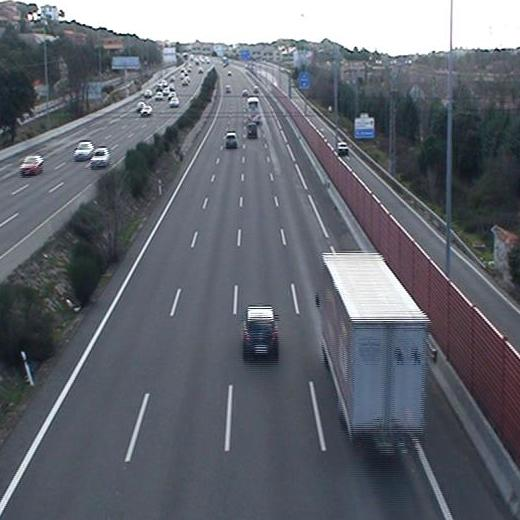bus: (244, 97, 262, 126)
car: (238, 303, 287, 363), (224, 132, 239, 149), (246, 123, 259, 141)
truck: (313, 249, 437, 461)
